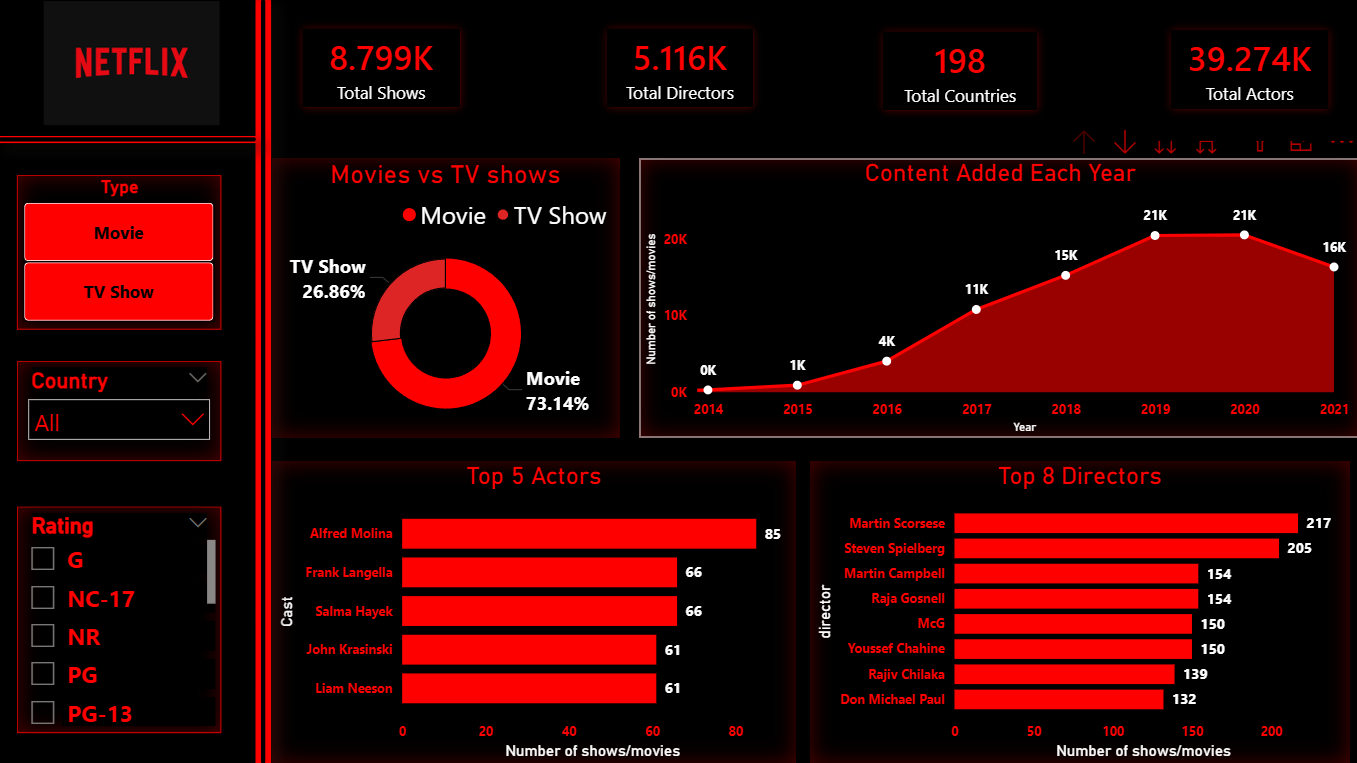

The page's visual inventory and layout, read from the dashboard file:
{"tool":"powerbi","page":{"name":"Page 1","canvas":[1280,720],"ordinal":0},"visuals":[{"type":"donutChart","title":"Movies vs TV shows","fields":{"Category":["netflix_titles.type"],"Y":["CountNonNull(netflix_titles.show_id)"]},"box":[256,150.4,326.4,262.4],"z":0},{"type":"clusteredBarChart","title":"Top 5 Actors","fields":{"Category":["netflix_titles.cast"],"Y":["CountNonNull(netflix_titles.show_id)"]},"box":[256.3,436.1,492.3,284.5],"z":1000},{"type":"barChart","title":"Top 8 Directors","fields":{"Category":["netflix_titles.director"],"Y":["CountNonNull(netflix_titles.show_id)"]},"box":[762.7,436.1,506.4,284.5],"z":2000},{"type":"lineChart","title":"Content Added Each Year","fields":{"Category":["netflix_titles.date_added.Variation.Date Hierarchy.Year","netflix_titles.date_added.Variation.Date Hierarchy.Quarter","netflix_titles.date_added.Variation.Date Hierarchy.Month","netflix_titles.date_added.Variation.Date Hierarchy.Day"],"Y":["CountNonNull(netflix_titles.show_id)"]},"box":[601.6,150.4,678.4,262.4],"z":3000},{"type":"advancedSlicerVisual","title":"Type","fields":{"Values":["netflix_titles.type"]},"box":[17.6,166.4,192,145.6],"z":4000},{"type":"slicer","fields":{"Values":["netflix_titles.country"]},"box":[17.3,341.8,192,94.1],"z":5000},{"type":"cardVisual","fields":{"Data":["Count(netflix_titles.show_id)"]},"box":[256,0,206.4,132.8],"z":6000},{"type":"slicer","fields":{"Values":["netflix_titles.rating"]},"box":[17.2,478.3,192.2,212.6],"z":7000},{"type":"cardVisual","fields":{"Data":["Count(netflix_titles.director)"]},"box":[542.4,0,195.2,132.8],"z":8000},{"type":"cardVisual","fields":{"Data":["Count(netflix_titles.country)"]},"box":[801.6,3.2,203.2,132.8],"z":9000},{"type":"cardVisual","fields":{"Data":["Count(netflix_titles.cast)"]},"box":[1073.6,1.6,206.4,132.8],"z":10000},{"type":"image","box":[0,3.2,249.6,116.8],"z":11000},{"type":"shape","box":[241.6,1.6,14.4,718.4],"z":12000},{"type":"shape","box":[0,129.6,241.6,6.4],"z":14000}]}

Visuals, with their boxes in screenshot pixels (x1, y1, x2, y2), scaled from the page's 1280x720 canvas onto the 1357x763 screenshot:
"Movies vs TV shows" donutChart: rect(271, 159, 617, 437)
"Top 5 Actors" clusteredBarChart: rect(272, 462, 794, 762)
"Top 8 Directors" barChart: rect(809, 462, 1345, 762)
"Content Added Each Year" lineChart: rect(638, 159, 1356, 437)
"Type" advancedSlicerVisual: rect(19, 176, 222, 331)
slicer - netflix_titles.country: rect(18, 362, 222, 462)
cardVisual - Count(netflix_titles.show_id): rect(271, 0, 490, 141)
slicer - netflix_titles.rating: rect(18, 507, 222, 732)
cardVisual - Count(netflix_titles.director): rect(575, 0, 782, 141)
cardVisual - Count(netflix_titles.country): rect(850, 3, 1065, 144)
cardVisual - Count(netflix_titles.cast): rect(1138, 2, 1356, 142)
image: rect(0, 3, 265, 127)
shape: rect(256, 2, 271, 762)
shape: rect(0, 137, 256, 144)
